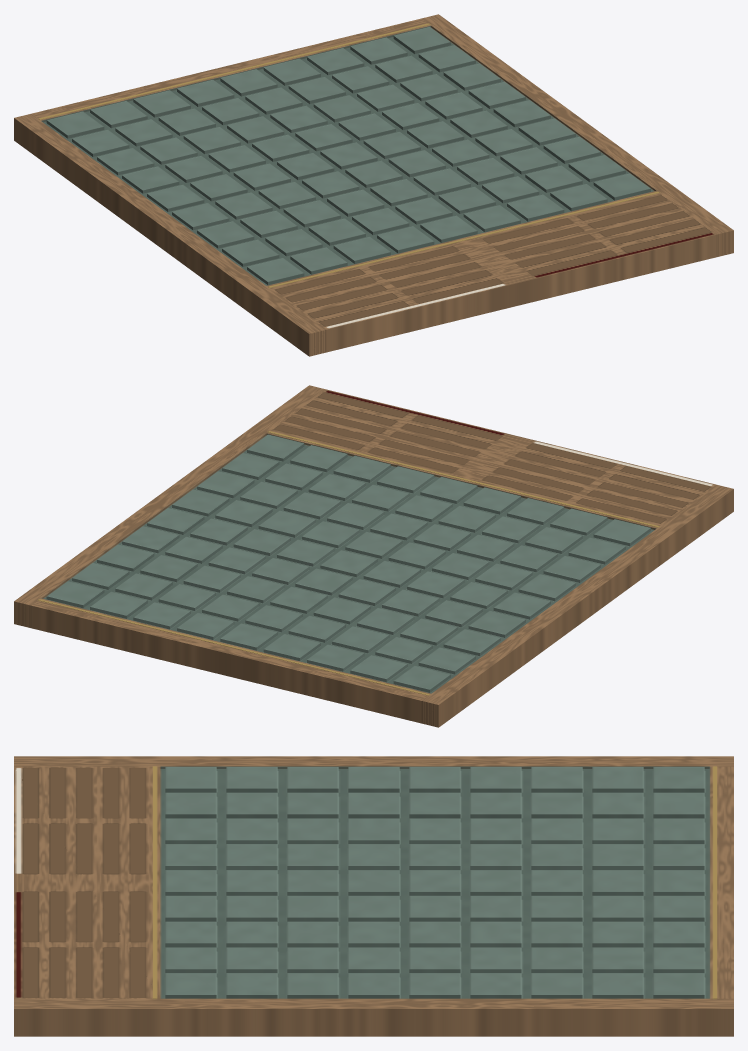
The model's file is board_classic.glb.
3 renders of one model, top to bottom at view 1: azimuth 30°, elevation 25°; view 2: azimuth 150°, elevation 25°; view 3: azimuth 270°, elevation 25°, orthographic. The views are drawn at different scales.
Parts seen in each view (by area): view 1: board_classic; view 2: board_classic; view 3: board_classic.
Part boxes in pixels (bbox=[...]): board_classic: bbox=[14, 14, 733, 356]; board_classic: bbox=[14, 385, 733, 727]; board_classic: bbox=[14, 756, 733, 1036].
Size of the model in its own units: 0.49 by 0.0265 by 0.59.
3 materials, 2 textured.
